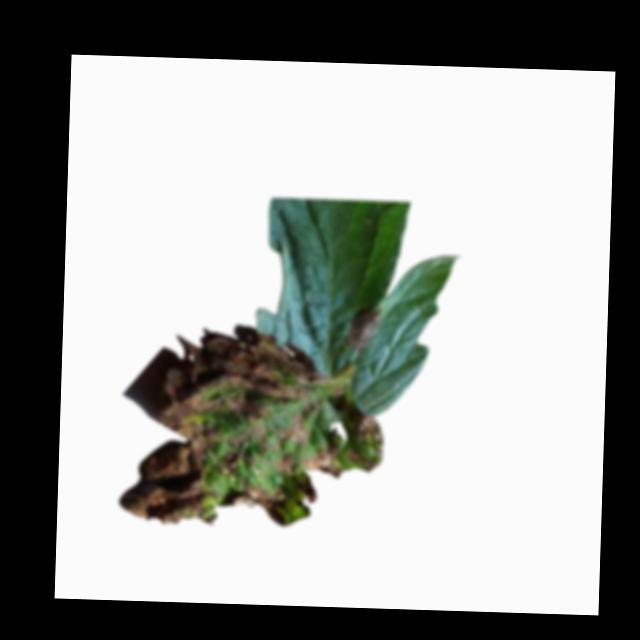Early_blight: (118, 331, 387, 532), (345, 304, 383, 350)
